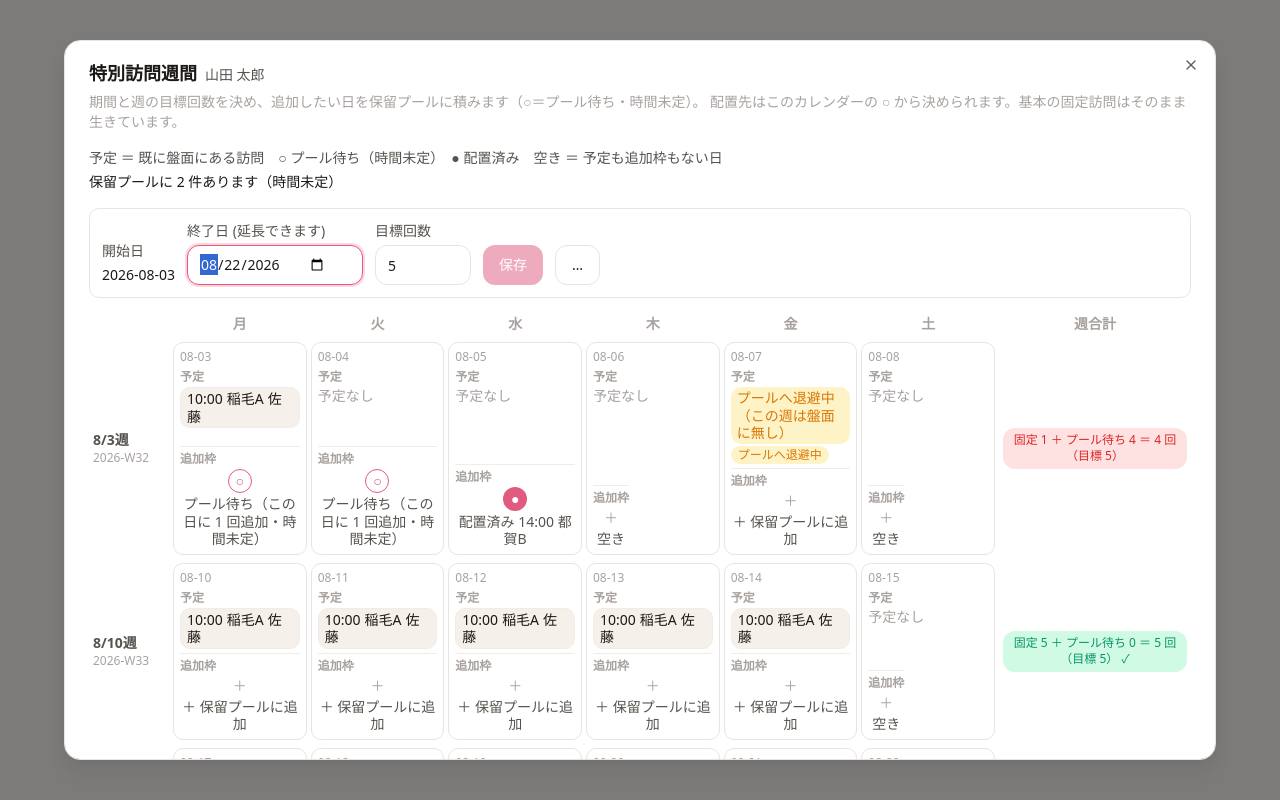
Test: SpecialVisitWeekDialog — ③ セルメニュー (追加 / 取消 / 配置) › 当日以前の日は「配置先を決める…」を押せない
The width and height of the screenshot is (1280, 800).
Click the button with test id "svw-mark-0-0" at (240, 448), box [174,343,306,554]
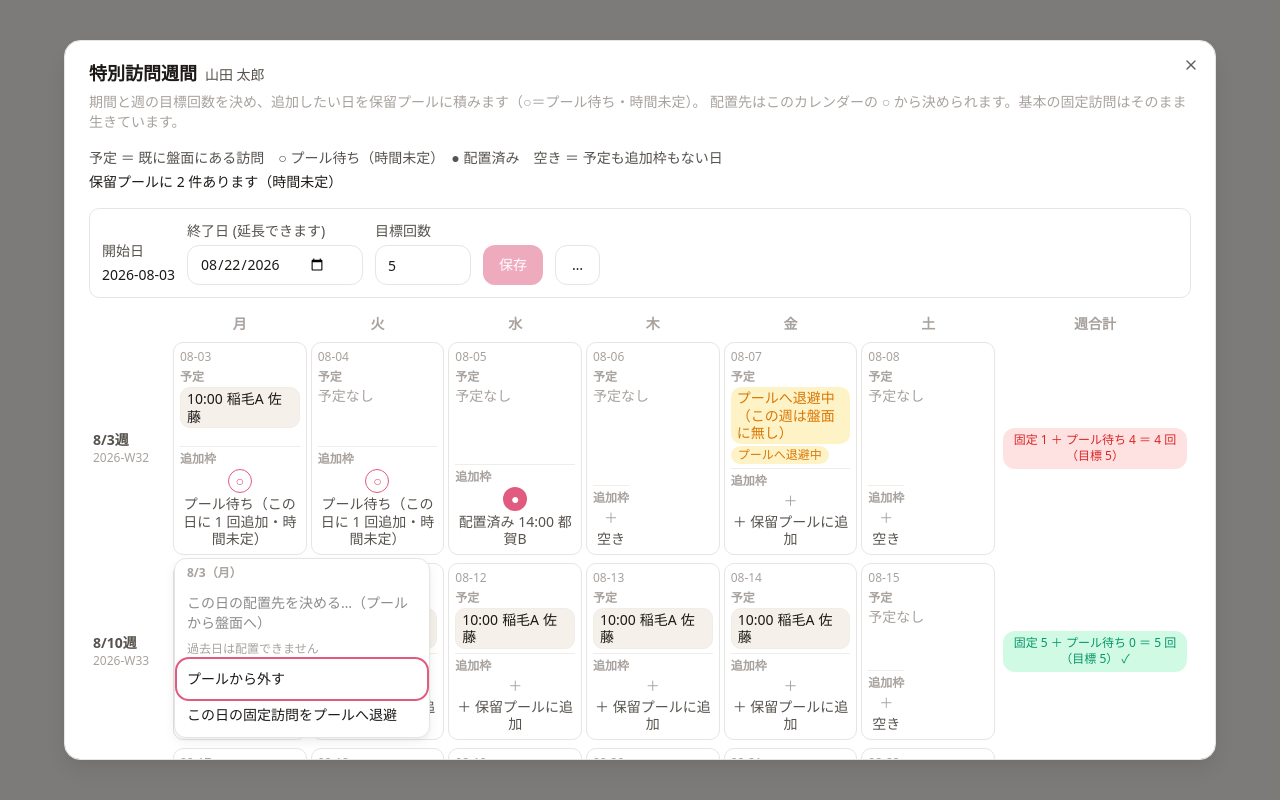
Now the menu item with test id "svw-menu-place-0-0" is disabled, box [179,585,425,641]
Now the text with test id "svw-menu-past-0-0" reads "過去日は配置できません", box [187,640,319,657]
Now the menu item with test id "svw-menu-cancel-0-0" is enabled, box [179,661,425,697]
